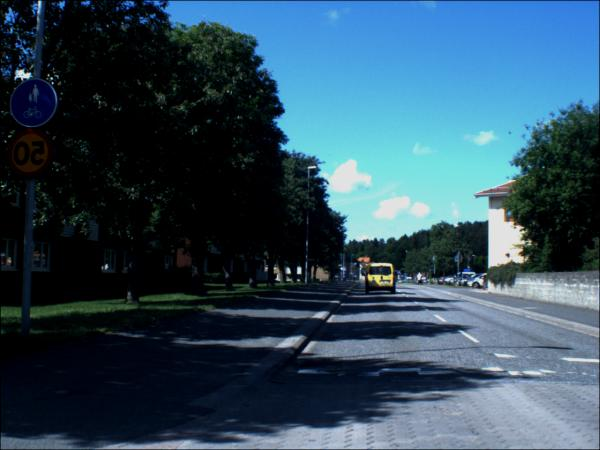50_SIGN: (7, 128, 55, 181)
